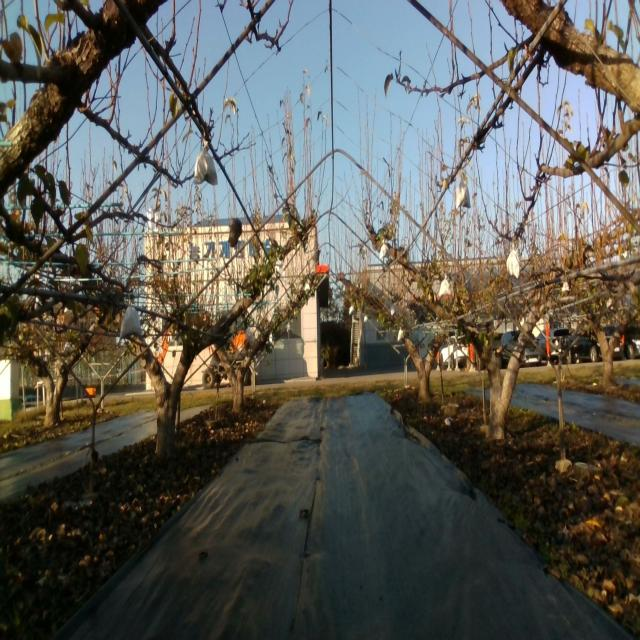pearbags: (194, 141, 217, 185), (119, 306, 143, 342), (456, 178, 471, 210), (506, 249, 519, 282), (439, 274, 451, 297)
